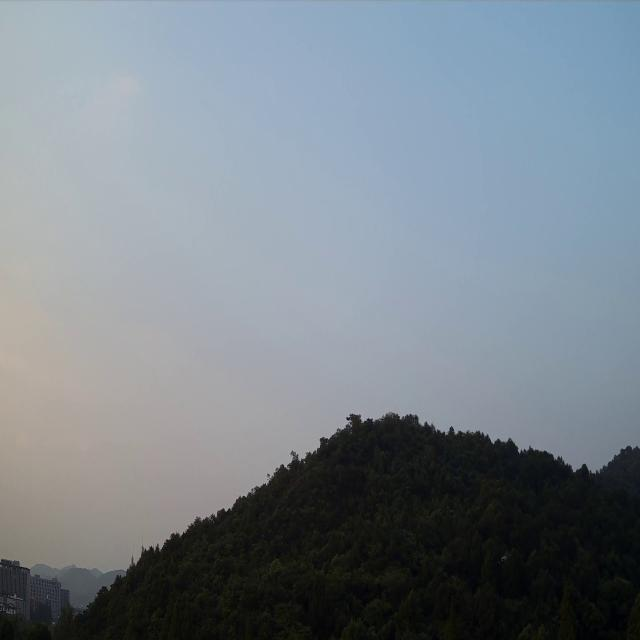UAV: (498, 553, 512, 567)
